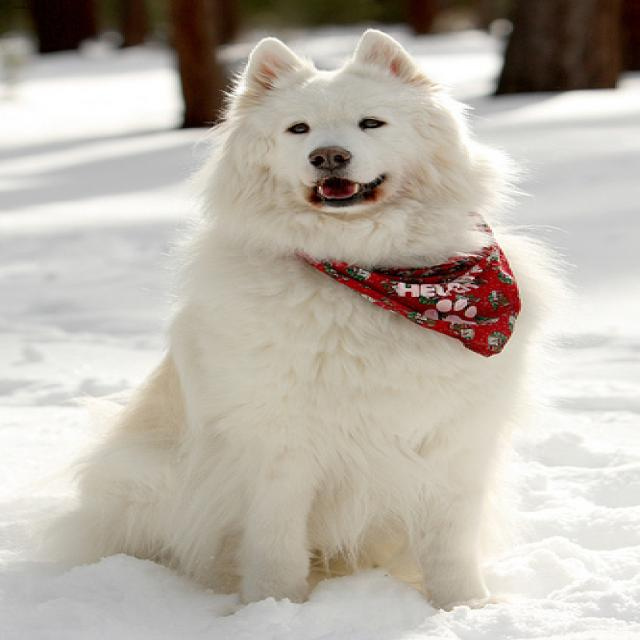dog-samoyed: (21, 13, 592, 621)
